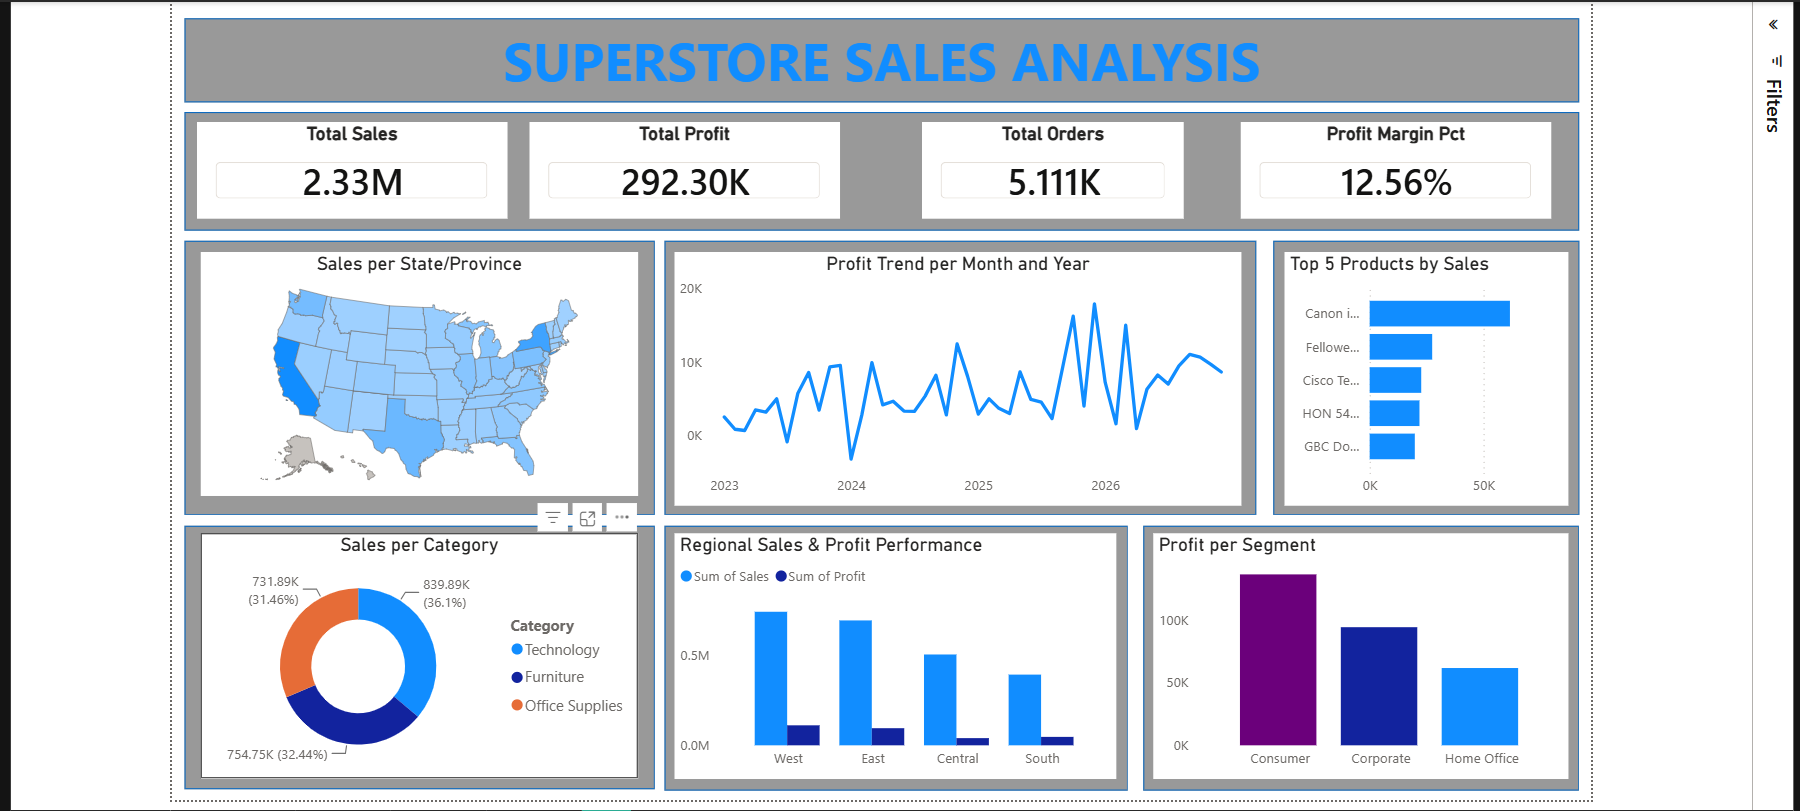

The dashboard page shown, as its layout file describes it:
{"tool":"powerbi","page":{"name":"Dashboard","canvas":[1280,720],"ordinal":0},"visuals":[{"type":"shape","box":[11.2,14.9,1257.6,75.9],"z":0},{"type":"textbox","box":[11.2,14.9,1257.6,75.9],"z":1},{"type":"shape","box":[11.2,99.5,1257.6,107],"z":2},{"type":"cardVisual","title":"Total Profit","fields":{"Data":["Sum(samplesuperstore.Profit)"]},"box":[322.2,108.2,279.9,87.1],"z":3},{"type":"cardVisual","title":"Total Orders","fields":{"Data":["Count(samplesuperstore.Order ID)"]},"box":[676.7,108.2,236.4,87.1],"z":4},{"type":"cardVisual","title":"Total Sales","fields":{"Data":["Sum(samplesuperstore.Sales)"]},"box":[22.4,108.2,279.9,87.1],"z":5},{"type":"cardVisual","title":"Profit Margin Pct","fields":{"Data":["samplesuperstore.Profit_Margin_Pct"]},"box":[964.1,108.2,279.9,87.1],"z":6},{"type":"shape","box":[11.2,215.2,424.2,247.5],"z":7},{"type":"shapeMap","title":"Sales per State/Province","fields":{"Value":["Sum(samplesuperstore.Sales)"],"Category":["samplesuperstore.State/Province"]},"box":[26.1,225.2,394.3,220.2],"z":8},{"type":"shape","box":[11.2,472.7,424.2,237.6],"z":9},{"type":"donutChart","title":"Sales per Category","fields":{"Y":["Sum(samplesuperstore.Sales)"],"Category":["samplesuperstore.Category"]},"box":[26.1,478.9,394.3,221.4],"z":10},{"type":"shape","box":[444.1,215.2,533.7,247.5],"z":11},{"type":"lineChart","title":"Profit Trend per Month and Year","fields":{"Y":["Sum(samplesuperstore.Profit)"],"Category":["samplesuperstore.Order Date.Variation.Date Hierarchy.Year","samplesuperstore.Order Date.Variation.Date Hierarchy.Month"]},"box":[452.8,225.2,511.3,228.9],"z":12},{"type":"shape","box":[992.7,215.2,276.2,247.5],"z":13},{"type":"clusteredBarChart","title":"Top 5 Products by Sales","fields":{"Y":["Sum(samplesuperstore.Sales)"],"Category":["samplesuperstore.Product Name"]},"box":[1002.6,225.2,256.3,228.9],"z":14},{"type":"shape","box":[444.1,472.7,418,238.8],"z":15},{"type":"clusteredColumnChart","title":"Regional Sales & Profit Performance","fields":{"Y":["Sum(samplesuperstore.Sales)","Sum(samplesuperstore.Profit)"],"Category":["samplesuperstore.Region"]},"box":[452.8,478.9,398.1,221.4],"z":16},{"type":"shape","box":[875.7,472.7,393.1,238.8],"z":17},{"type":"clusteredColumnChart","title":"Profit per Segment","fields":{"Category":["samplesuperstore.Segment"],"Y":["Sum(samplesuperstore.Profit)"]},"box":[884.5,478.9,374.4,221.4],"z":18}]}

Visuals, with their boxes in screenshot pixels (x1, y1, x2, y2):
shape: 177/12/1573/96
textbox: 177/12/1573/96
shape: 177/106/1573/225
"Total Profit" cardVisual: 522/115/833/212
"Total Orders" cardVisual: 916/115/1178/212
"Total Sales" cardVisual: 189/115/500/212
"Profit Margin Pct" cardVisual: 1235/115/1546/212
shape: 177/234/648/509
"Sales per State/Province" shapeMap: 193/245/631/490
shape: 177/520/648/784
"Sales per Category" donutChart: 193/527/631/773
shape: 657/234/1250/509
"Profit Trend per Month and Year" lineChart: 667/245/1235/500
shape: 1267/234/1573/509
"Top 5 Products by Sales" clusteredBarChart: 1278/245/1562/500
shape: 657/520/1122/786
"Regional Sales & Profit Performance" clusteredColumnChart: 667/527/1109/773
shape: 1137/520/1573/786
"Profit per Segment" clusteredColumnChart: 1147/527/1562/773
